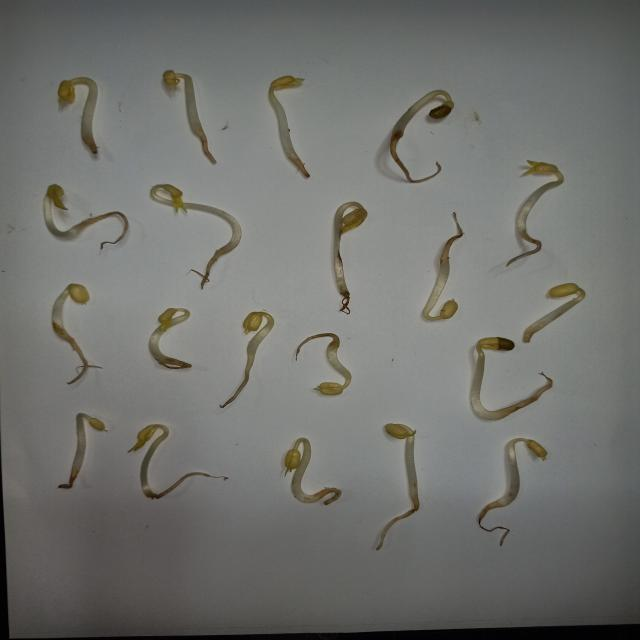leaf: (336, 204, 366, 233), (320, 370, 354, 395), (517, 160, 557, 177), (159, 309, 191, 330), (48, 185, 72, 213), (161, 183, 193, 200), (242, 312, 265, 333), (477, 338, 515, 350), (384, 424, 414, 439), (526, 440, 547, 461), (68, 283, 90, 303), (548, 283, 578, 297), (429, 104, 455, 120), (133, 424, 155, 442), (442, 298, 460, 320), (271, 75, 303, 87), (60, 83, 76, 106), (283, 449, 300, 469), (164, 71, 183, 88), (90, 415, 107, 430)
root: (382, 139, 443, 187), (507, 369, 566, 418), (419, 211, 473, 262), (374, 501, 420, 552), (81, 209, 127, 250), (224, 365, 260, 409), (472, 506, 508, 544), (194, 254, 232, 289), (503, 236, 543, 268), (288, 331, 358, 348), (67, 336, 88, 383), (194, 135, 217, 163), (174, 356, 214, 372), (52, 472, 76, 494), (286, 156, 309, 178), (142, 491, 185, 501), (319, 488, 340, 504), (340, 288, 351, 313), (85, 136, 99, 155), (520, 334, 537, 344)
stem: (146, 184, 247, 253), (521, 290, 598, 334), (485, 436, 530, 504), (518, 176, 566, 236), (335, 202, 367, 290), (394, 92, 455, 138), (393, 422, 427, 501), (471, 344, 506, 418), (168, 70, 207, 134), (270, 78, 301, 158), (152, 312, 194, 364), (423, 263, 460, 321), (287, 440, 318, 504), (68, 79, 96, 138), (43, 286, 73, 340), (46, 185, 78, 235), (249, 314, 277, 364), (140, 424, 156, 490), (312, 348, 361, 369), (73, 413, 90, 472)
